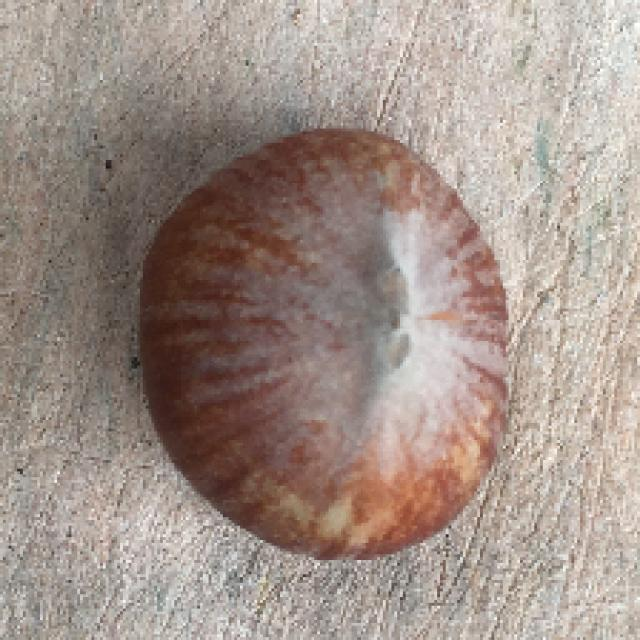QualityHazelnut: (136, 126, 513, 563)
